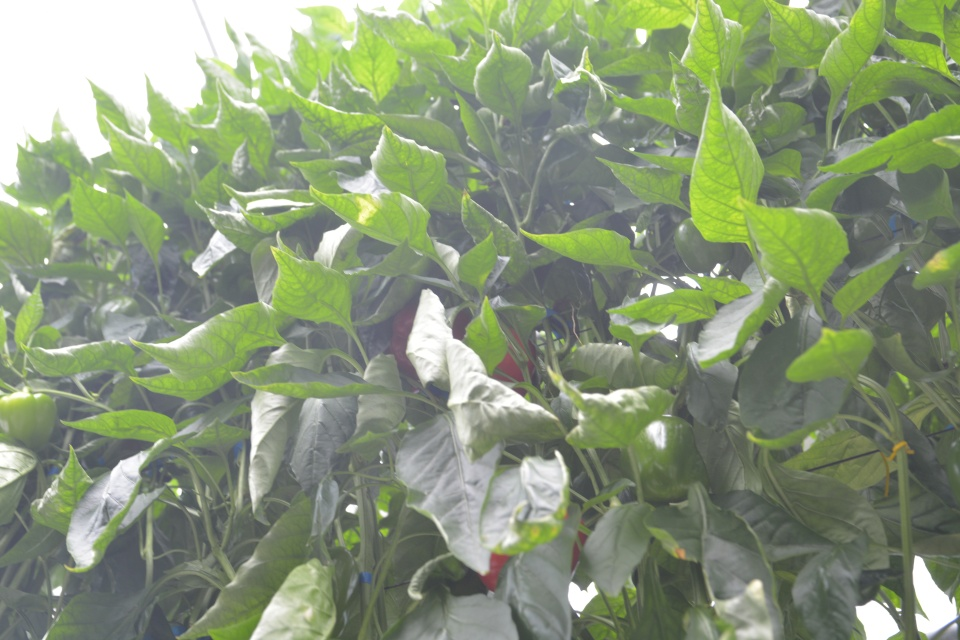fruit: (476, 507, 589, 594), (620, 412, 711, 504), (393, 297, 470, 382), (672, 216, 735, 274), (486, 326, 537, 397), (0, 389, 57, 451)
